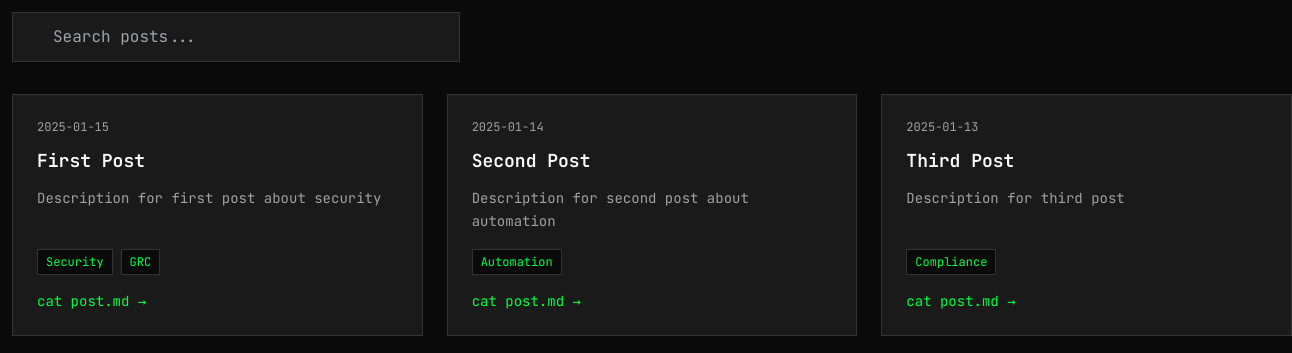
Test: BlogList Component › should show no results message for empty search
Type "xyznonexistent" into the field with placeholder "Search posts..." at (236, 37), box x1=12 y1=12 x2=460 y2=62
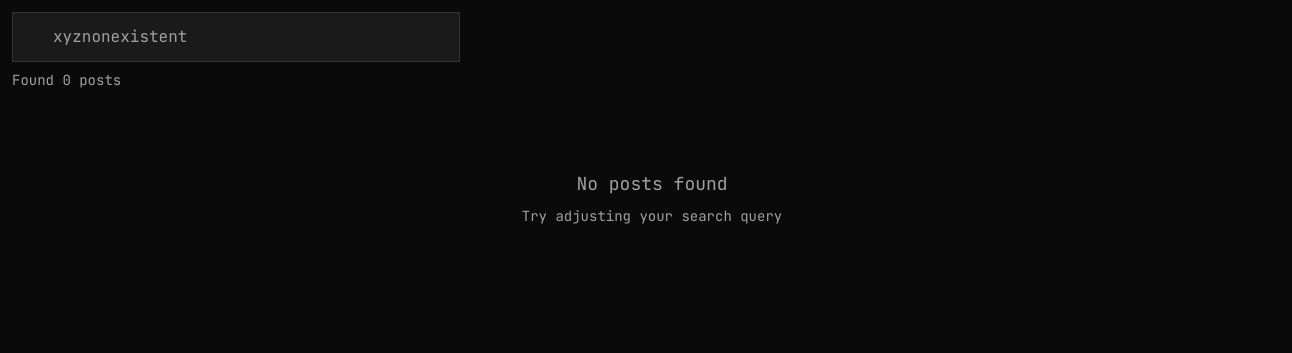
Result: the text "No posts found" is shown at x1=576 y1=172 x2=728 y2=195
